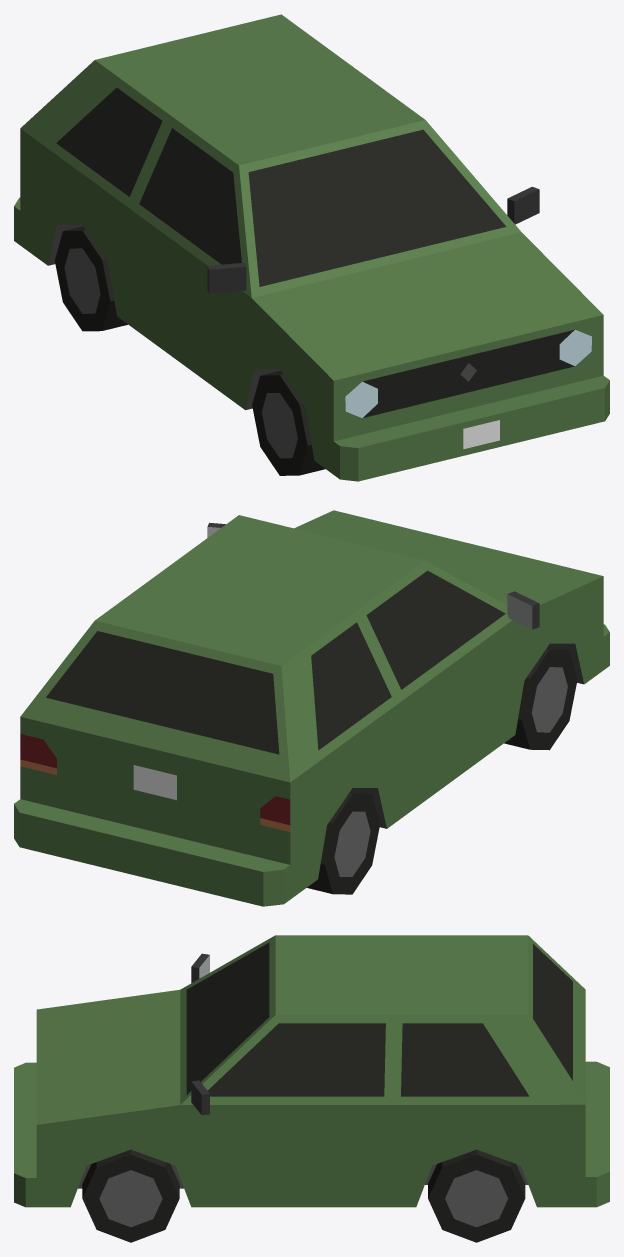
Rendered from Veh_Coupe_02_Green.obj.
3 renders of one model, top to bottom at view 1: azimuth 30°, elevation 25°; view 2: azimuth 150°, elevation 25°; view 3: azimuth 270°, elevation 25°, orthographic. The views are drawn at different scales.
Size of the model in its own units: 1.12 by 0.78 by 2.01.
